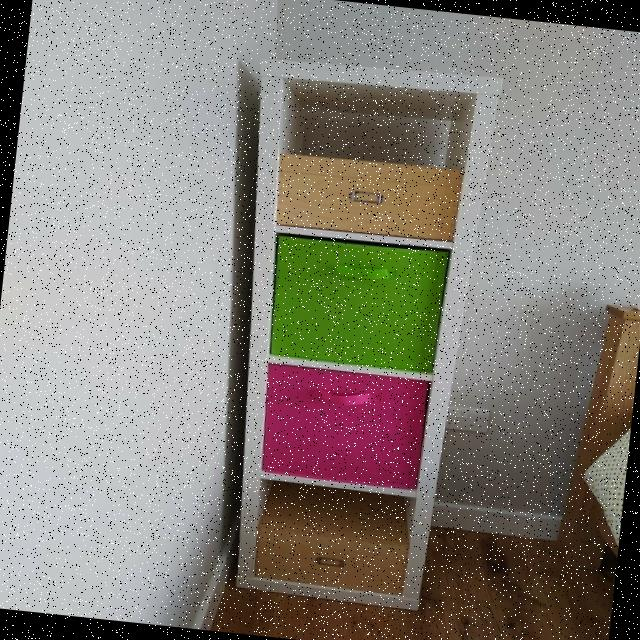Shelf: (197, 44, 514, 624)
